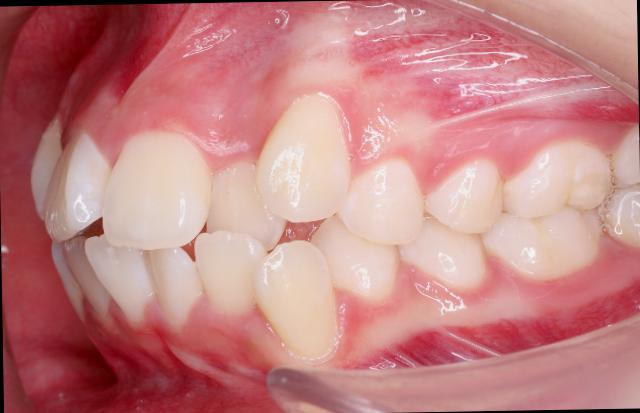canine class II 1/2: (249, 80, 397, 360)
molar class I: (480, 128, 620, 292)
